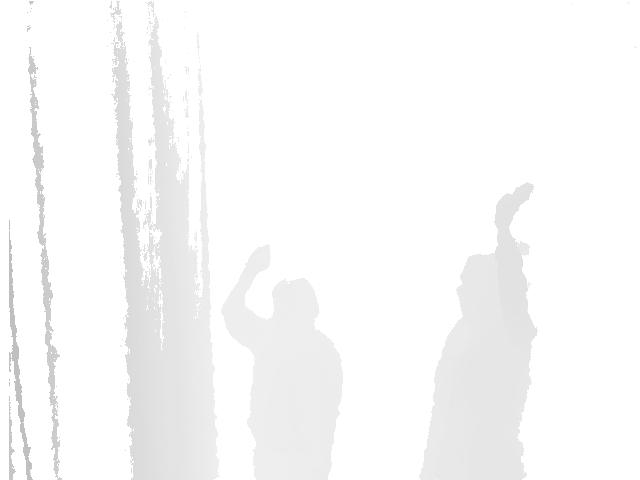hand: (493, 183, 535, 231), (245, 245, 271, 274)
head: (456, 242, 531, 320), (272, 279, 320, 331)
person: (415, 184, 540, 479), (219, 245, 346, 480)
